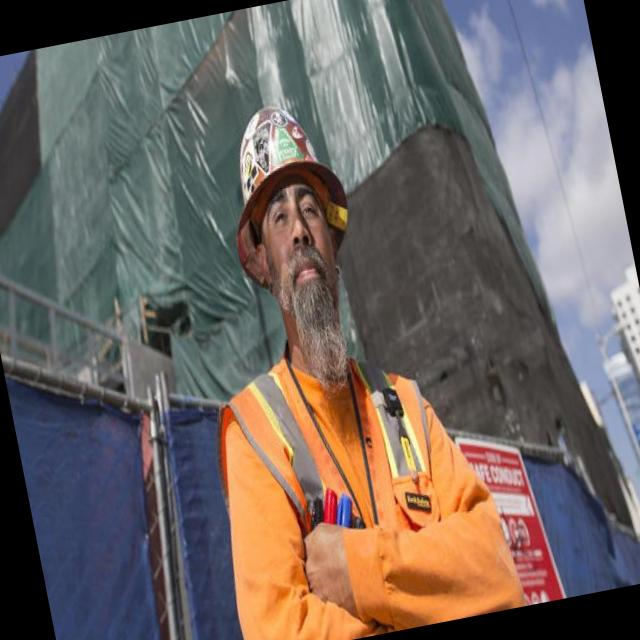Helmet: (210, 85, 364, 267)
Vest: (209, 325, 492, 640)
